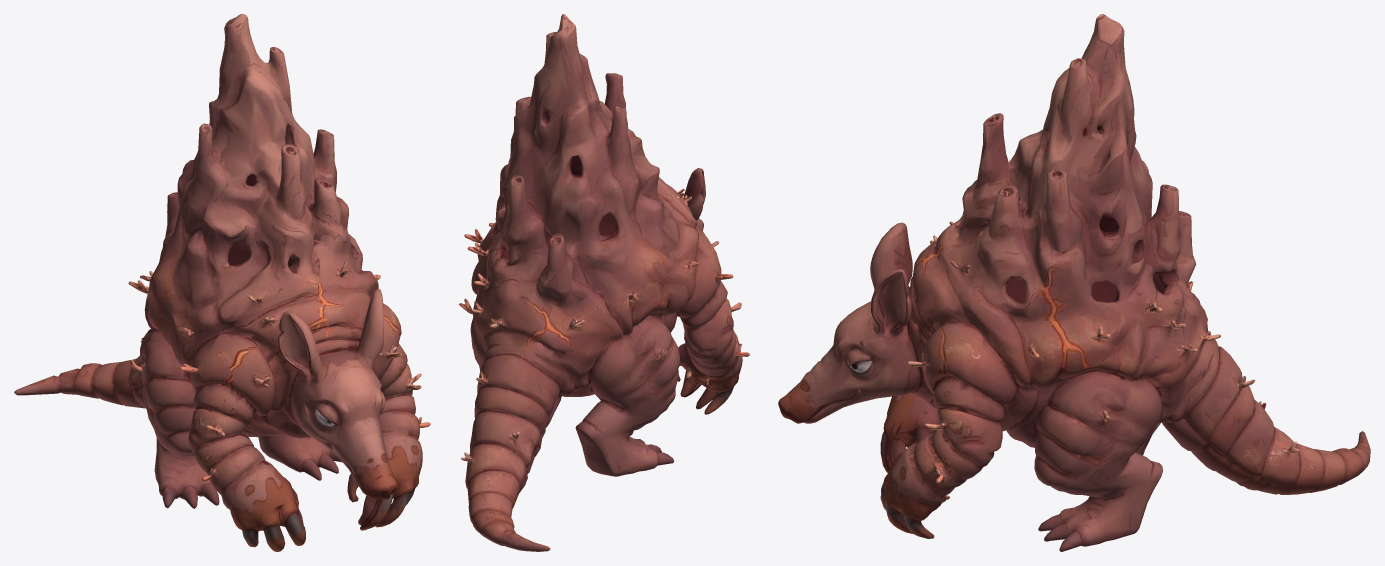
Rendered from moundvark.glb.
3 renders of one model, left to right at view 1: azimuth 30°, elevation 25°; view 2: azimuth 150°, elevation 25°; view 3: azimuth 270°, elevation 25°, orthographic. The views are drawn at different scales.
Visible parts, largest first — view 1: Mesh_0; view 2: Mesh_0; view 3: Mesh_0.
Boxes of the visible parts, left/top/right/bottom form: Mesh_0: left=14, top=14, right=430, bottom=551; Mesh_0: left=459, top=14, right=749, bottom=551; Mesh_0: left=778, top=14, right=1370, bottom=551.
Size of the model in its own units: 0.9259 by 1.77 by 1.92.
1 material, 1 textured.
